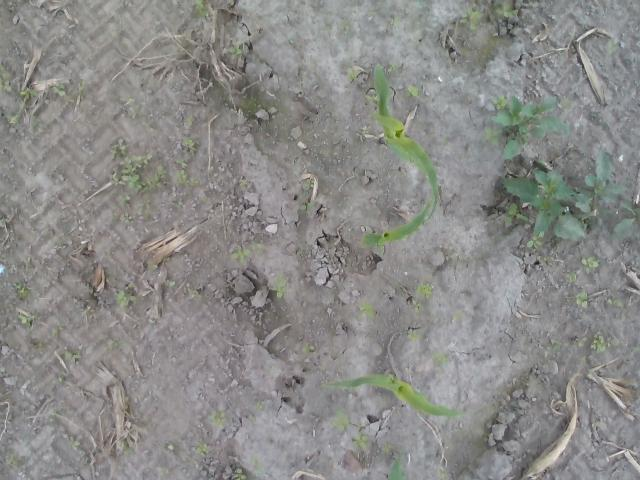Maize: (372, 63, 439, 220), (318, 373, 465, 416), (361, 200, 432, 250), (388, 448, 410, 480)
Weeds: (500, 153, 640, 250), (484, 93, 569, 160), (110, 142, 168, 192), (233, 240, 264, 264), (460, 3, 482, 32), (176, 168, 206, 186), (590, 332, 616, 352), (330, 408, 352, 431), (494, 0, 518, 18), (273, 272, 288, 300), (0, 64, 14, 92), (114, 289, 136, 306), (206, 408, 225, 427), (416, 278, 434, 298), (580, 255, 600, 273), (180, 136, 202, 152), (404, 80, 424, 97), (15, 280, 31, 300), (432, 350, 449, 368), (353, 432, 370, 450), (192, 0, 209, 17), (359, 303, 375, 320), (576, 287, 588, 308), (606, 38, 620, 56), (230, 467, 248, 480), (252, 456, 264, 475), (118, 441, 134, 455), (410, 298, 424, 314), (5, 454, 24, 465), (16, 313, 32, 326), (67, 436, 81, 450), (64, 350, 80, 362), (50, 84, 66, 96), (19, 88, 38, 97), (606, 297, 624, 306), (120, 192, 130, 208), (228, 46, 244, 56), (348, 64, 358, 80), (4, 114, 18, 125), (437, 466, 448, 480), (340, 16, 350, 31), (51, 325, 63, 337), (195, 441, 207, 453), (120, 212, 132, 224), (112, 338, 126, 348), (363, 94, 378, 103), (407, 329, 418, 341), (574, 336, 586, 347), (156, 466, 168, 477), (303, 343, 315, 353), (381, 442, 391, 454), (566, 272, 576, 284), (304, 178, 314, 189), (415, 0, 427, 9), (58, 370, 65, 384), (186, 114, 193, 126), (392, 15, 401, 24), (388, 64, 398, 72), (551, 344, 561, 352), (240, 178, 248, 188), (302, 202, 312, 209), (256, 400, 264, 408), (542, 254, 550, 262), (175, 159, 185, 165), (56, 239, 64, 246), (288, 39, 294, 48), (362, 127, 368, 134)
